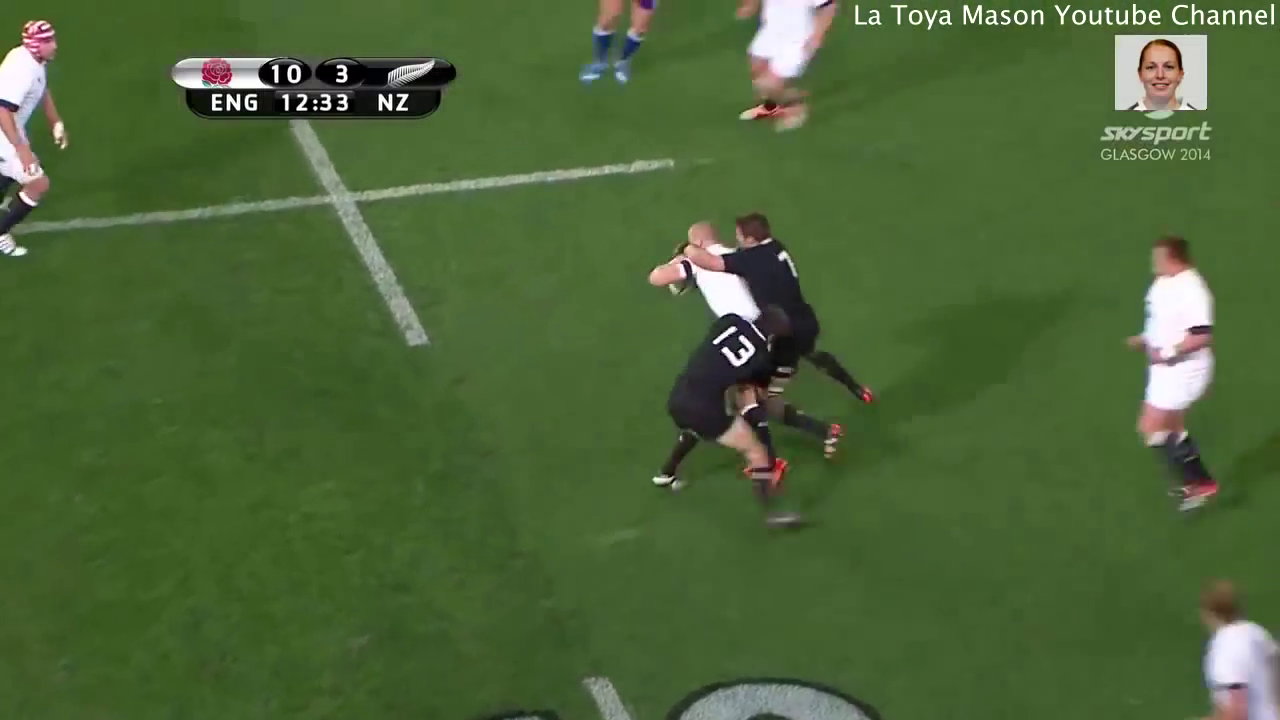10_metre: (1, 68, 689, 363)
player: (685, 212, 893, 466), (637, 296, 819, 544), (1103, 224, 1233, 511), (1, 4, 75, 274), (712, 1, 853, 135), (645, 194, 764, 341), (1173, 560, 1280, 720), (555, 1, 679, 92)
